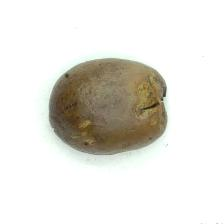NG: (134, 66, 170, 132)
